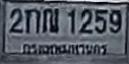1: (67, 8, 75, 33)
2: (9, 7, 22, 32), (78, 8, 91, 33)
5: (94, 9, 107, 33)
9: (109, 9, 121, 32)
A01: (24, 8, 40, 33)
A19: (42, 7, 58, 32)
BKK: (18, 40, 112, 58)
